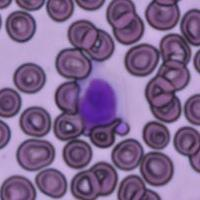M: (74, 73, 130, 130)
